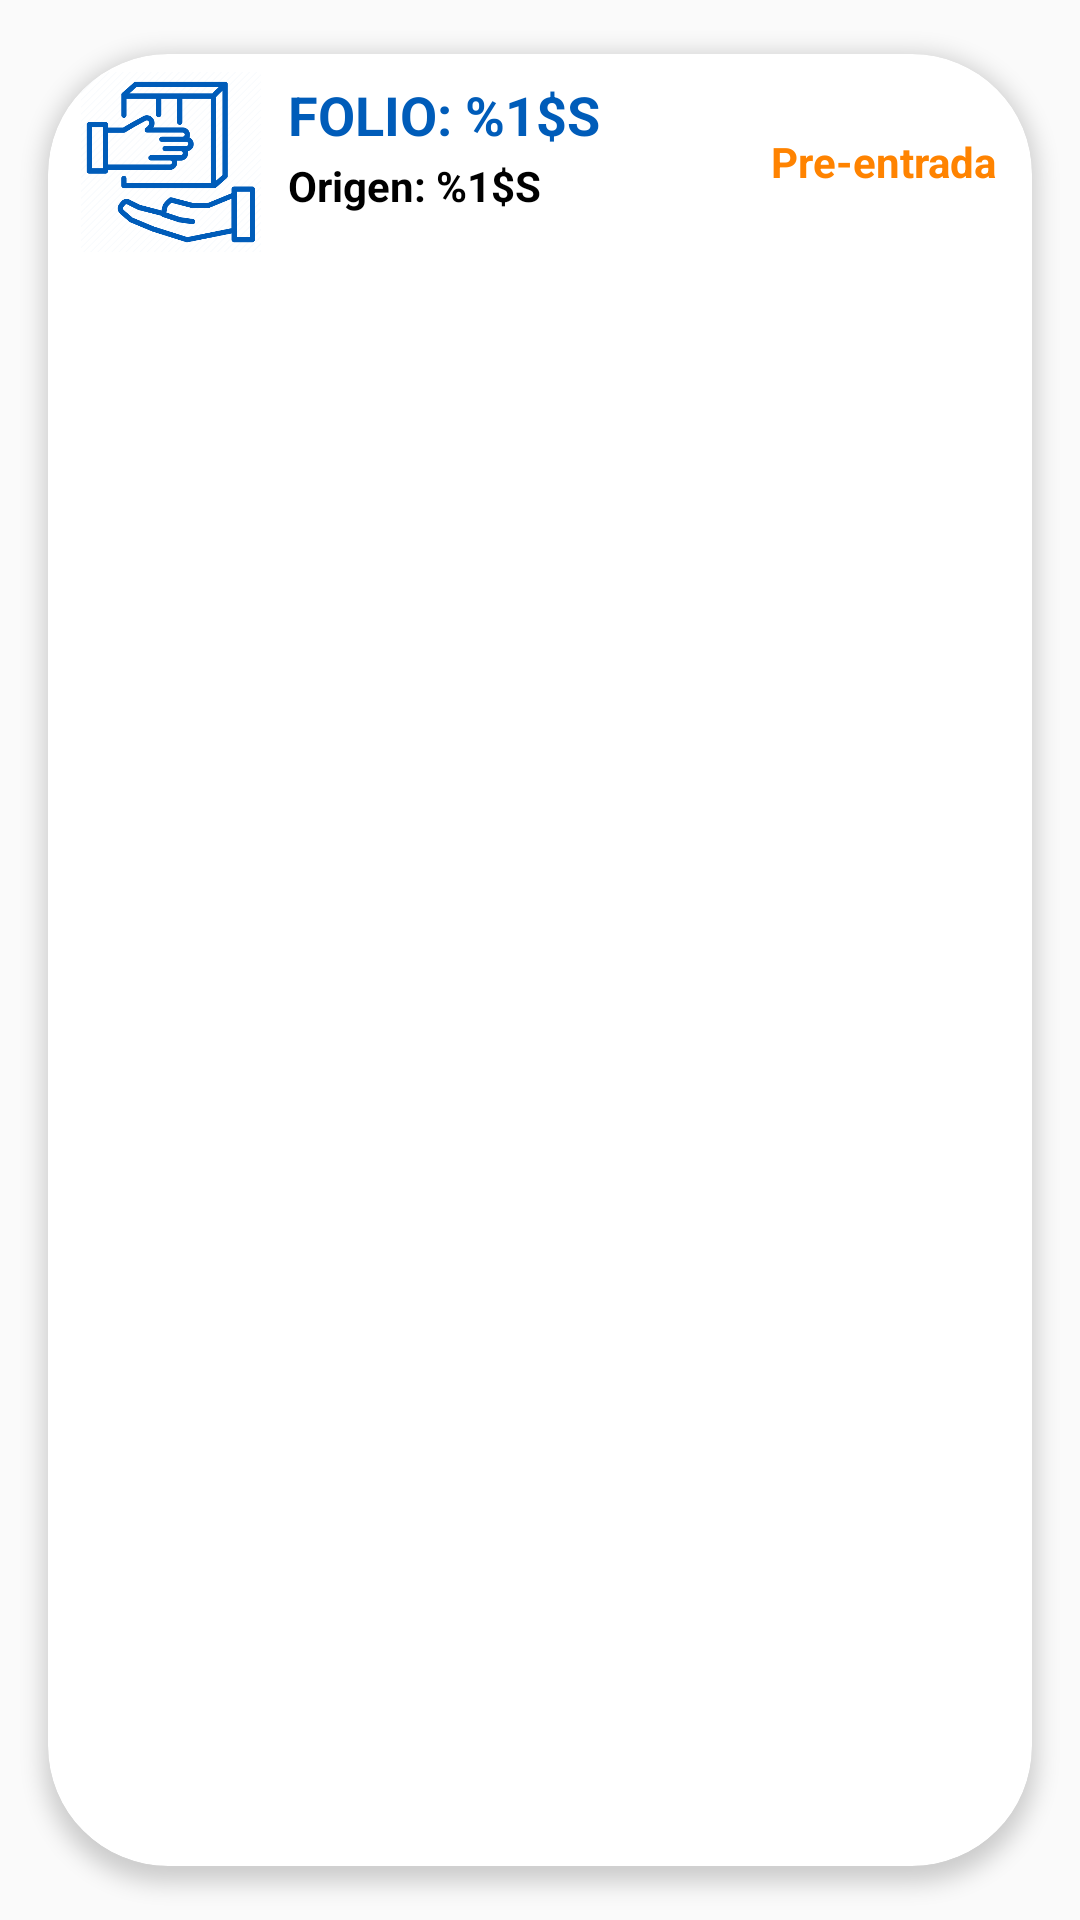

Point at icon controls on the screen. Image size 1080 × 1920, points as point (x, y).
send box azul: point (170, 162)
